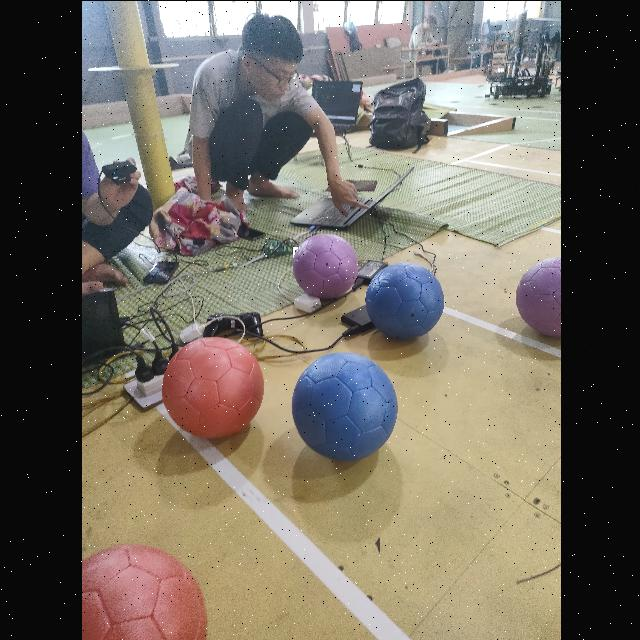B: (290, 352, 396, 460), (364, 262, 442, 338)
P: (291, 233, 357, 297), (514, 256, 560, 336)
R: (80, 544, 206, 640), (160, 336, 262, 436)
